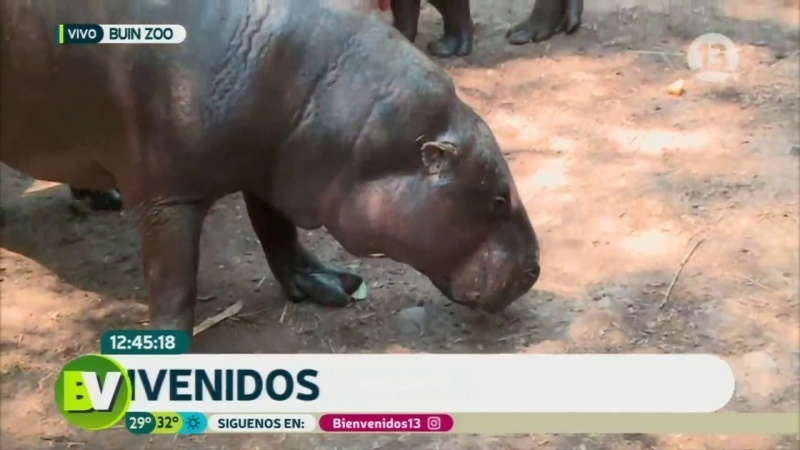hipopotamo: (1, 1, 555, 354)
